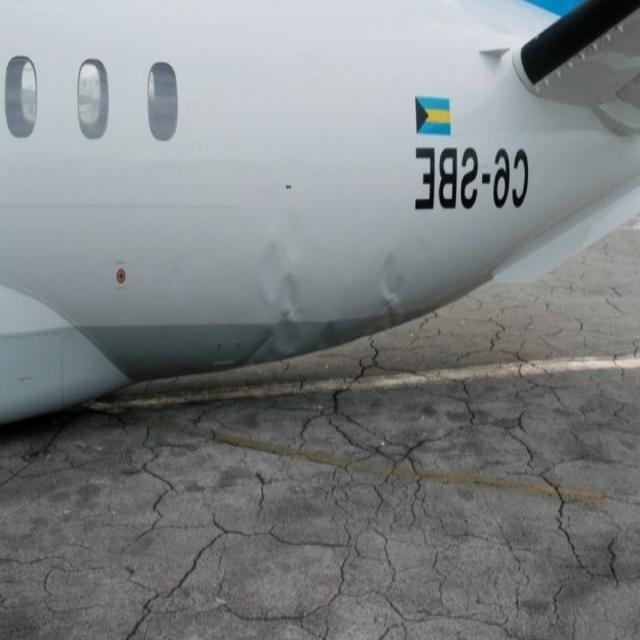dent: (252, 201, 427, 361)
